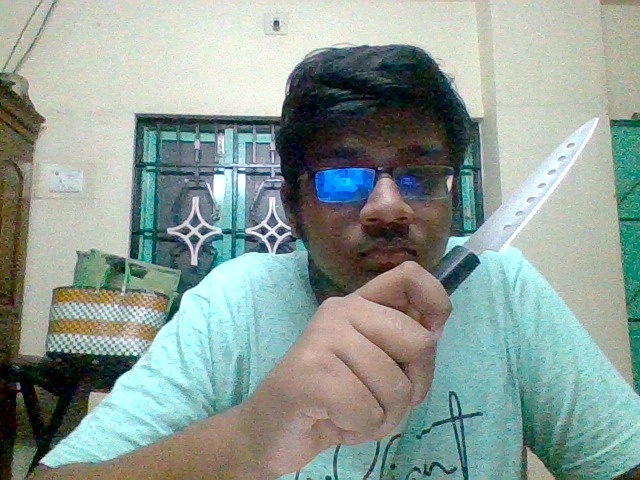knife: (442, 115, 617, 272)
